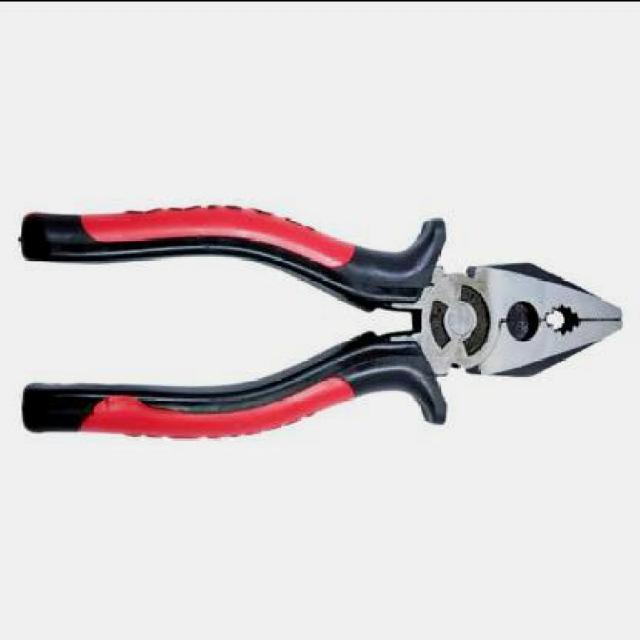pliers: (21, 190, 622, 442)
